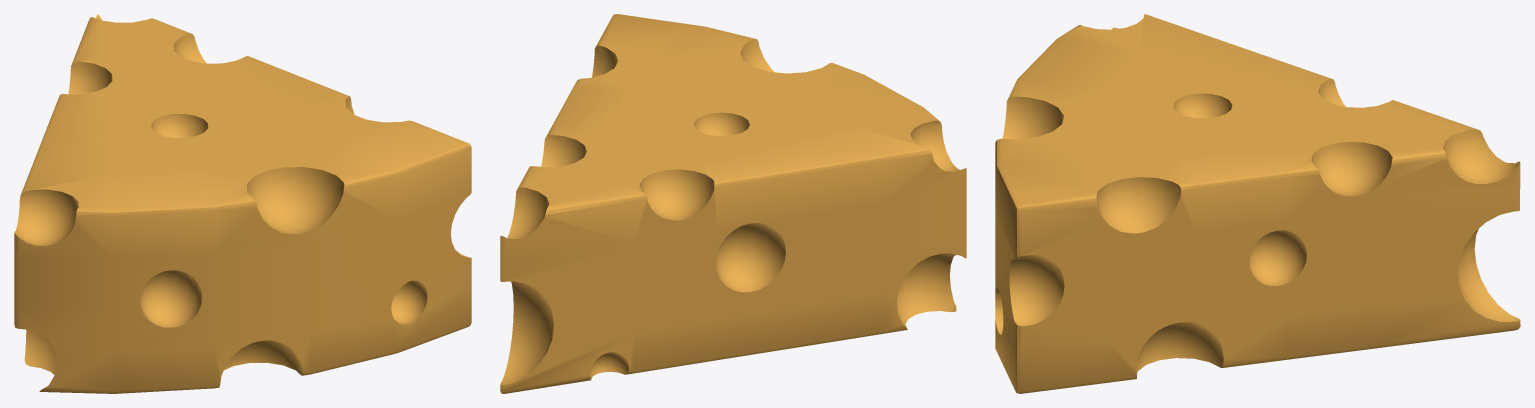
Rendered from cheese.fbx.
3 views of the same model, side by side, from view 1: azimuth 30°, elevation 25°; view 2: azimuth 150°, elevation 25°; view 3: azimuth 270°, elevation 25° (orthographic). The views are drawn at different scales.
Parts seen in each view (by area): view 1: Circle; view 2: Circle; view 3: Circle.
Part boxes in pixels (x1=…): Circle: x1=14, y1=14, x2=471, y2=393; Circle: x1=500, y1=14, x2=966, y2=393; Circle: x1=995, y1=14, x2=1520, y2=393.
Bounding box in the file's own units: 91.75 × 39.34 × 99.09.
